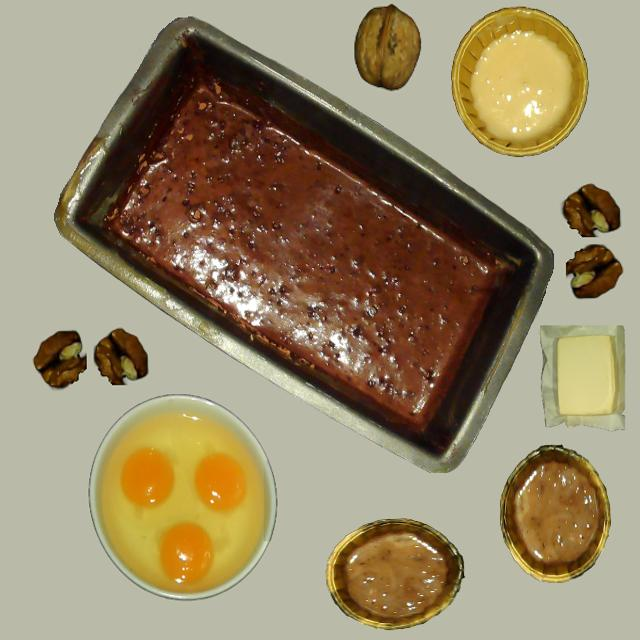Egg: (120, 448, 175, 508), (159, 524, 214, 584), (194, 453, 247, 512)
Walnut: (354, 4, 420, 90)
